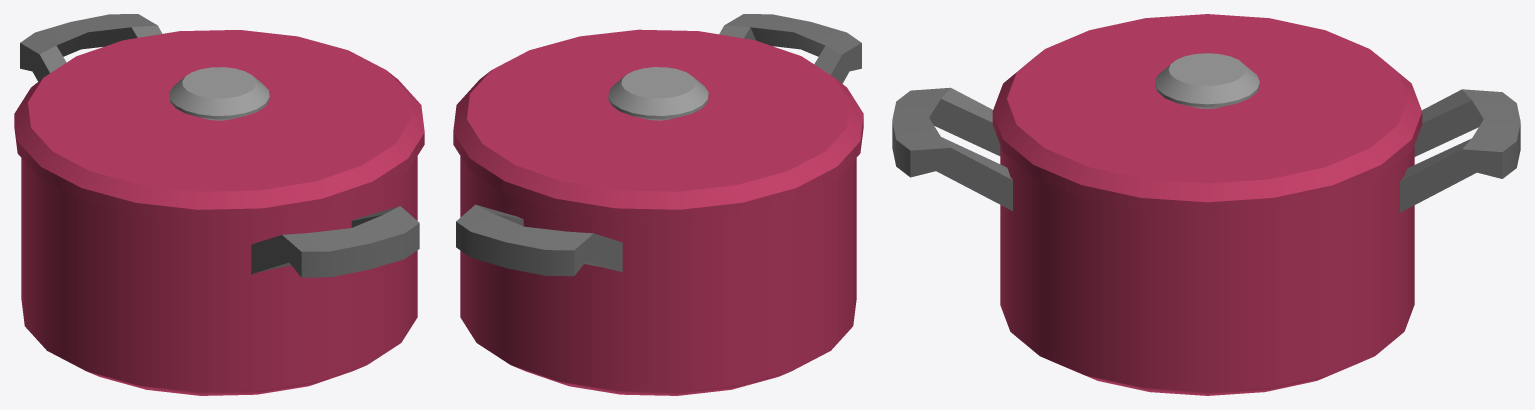
The model's file is Nabe.fbx.
The picture shows the model from 3 angles, left to right: view 1: azimuth 30°, elevation 25°; view 2: azimuth 150°, elevation 25°; view 3: azimuth 270°, elevation 25°; orthographic projection. The views are drawn at different scales.
Parts seen in each view (by area): view 1: polySurface52, polySurface51, polySurface49, polySurface48, Totte; view 2: polySurface52, polySurface51, polySurface48, polySurface49, Totte; view 3: polySurface52, polySurface51, polySurface49, polySurface48, Totte.
Boxes of the visible parts, x1,y1,x2,y2 form: polySurface52: (21, 156, 417, 395); polySurface51: (14, 30, 424, 221); polySurface49: (251, 206, 419, 277); polySurface48: (20, 14, 162, 81); Totte: (169, 67, 269, 120); polySurface52: (460, 156, 856, 395); polySurface51: (453, 29, 863, 221); polySurface48: (456, 204, 622, 276); polySurface49: (719, 14, 861, 83); Totte: (608, 67, 708, 120); polySurface52: (1000, 145, 1414, 395); polySurface51: (992, 14, 1422, 214); polySurface49: (892, 87, 1012, 210); polySurface48: (1400, 89, 1520, 212); Totte: (1155, 53, 1259, 108).
Size of the model in its own units: 189 by 120 by 277.
